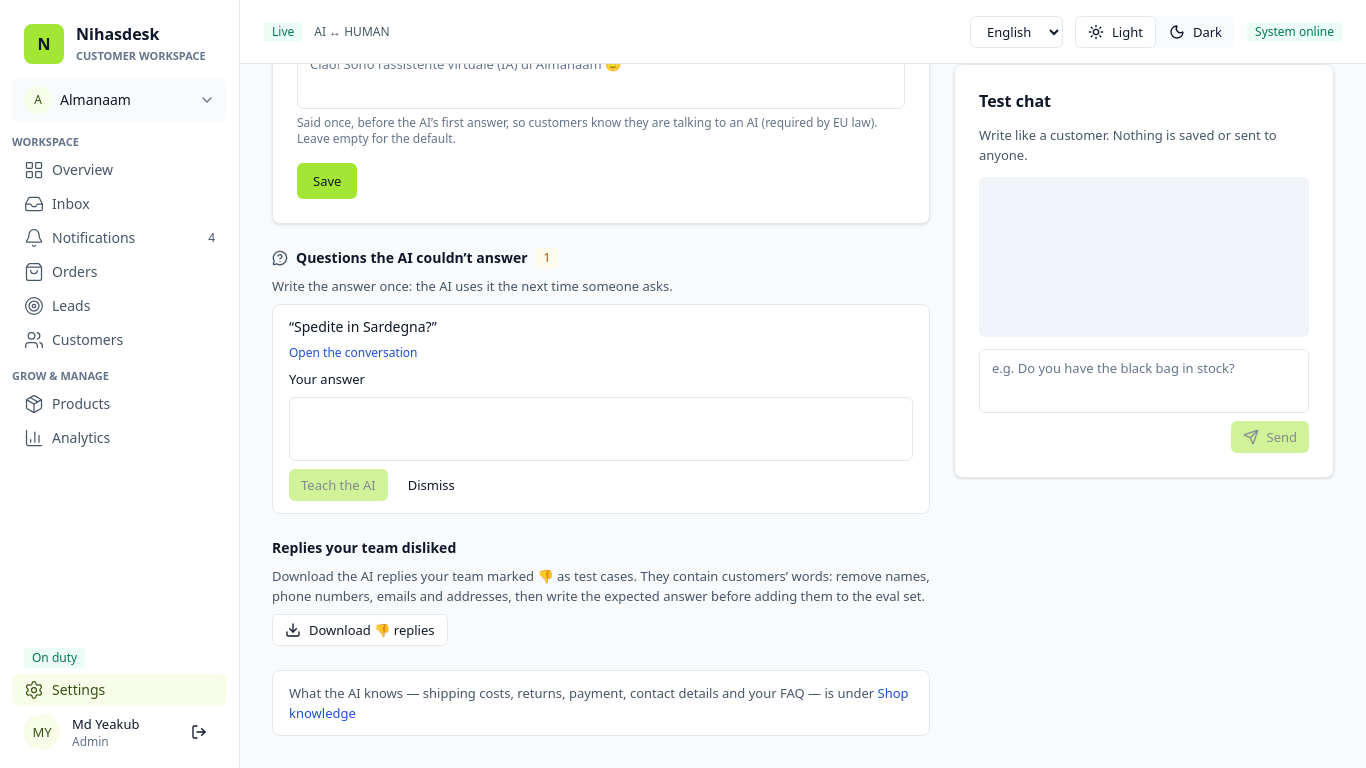
Test: Settings → AI › teaches the AI from an unanswered question
The width and height of the screenshot is (1366, 768).
(page scrolled)
Expected: the text "“Spedite in Sardegna?”" is shown, [289,317,437,336]
Type "Sì, isole comprese." into the text box labelled "Your answer" at [601, 429], box [289,397,913,461]
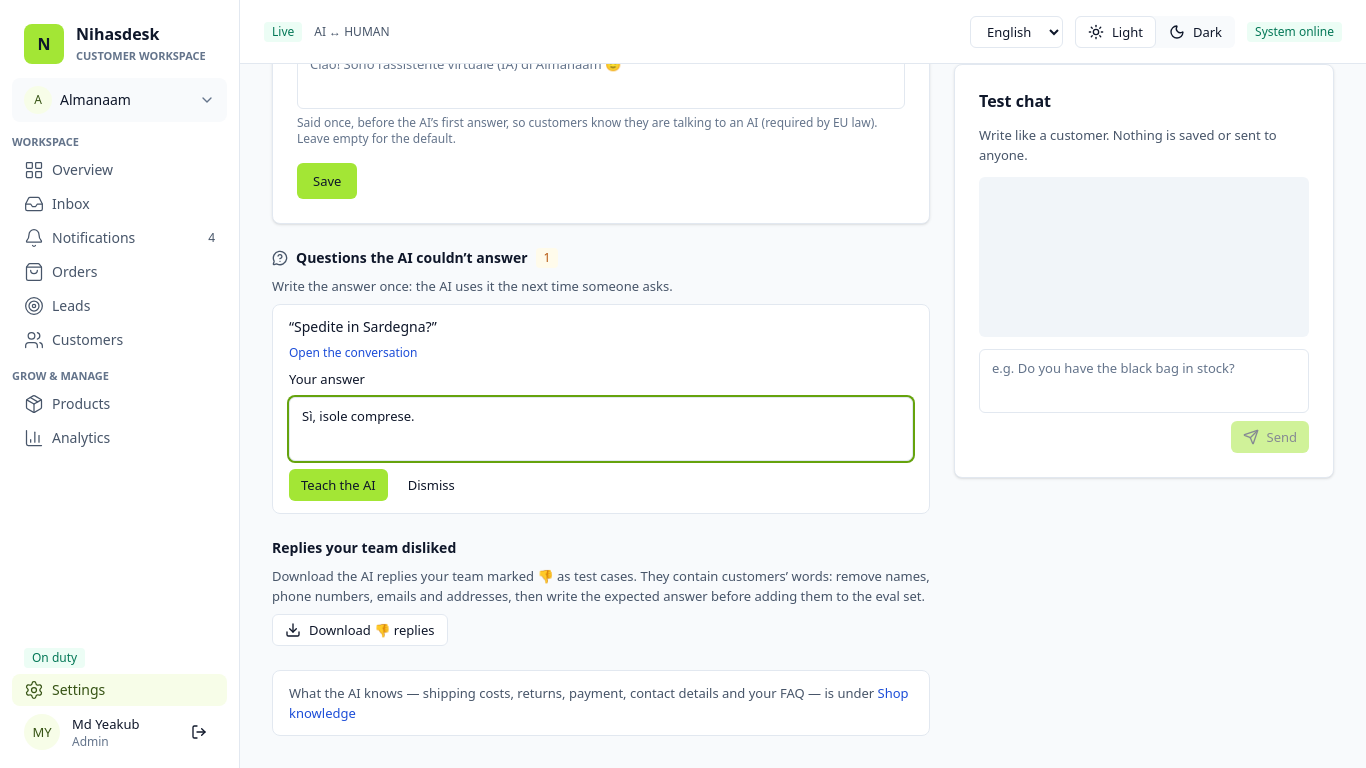
Click the button "Teach the AI" at [338, 485], box [289,469,388,501]
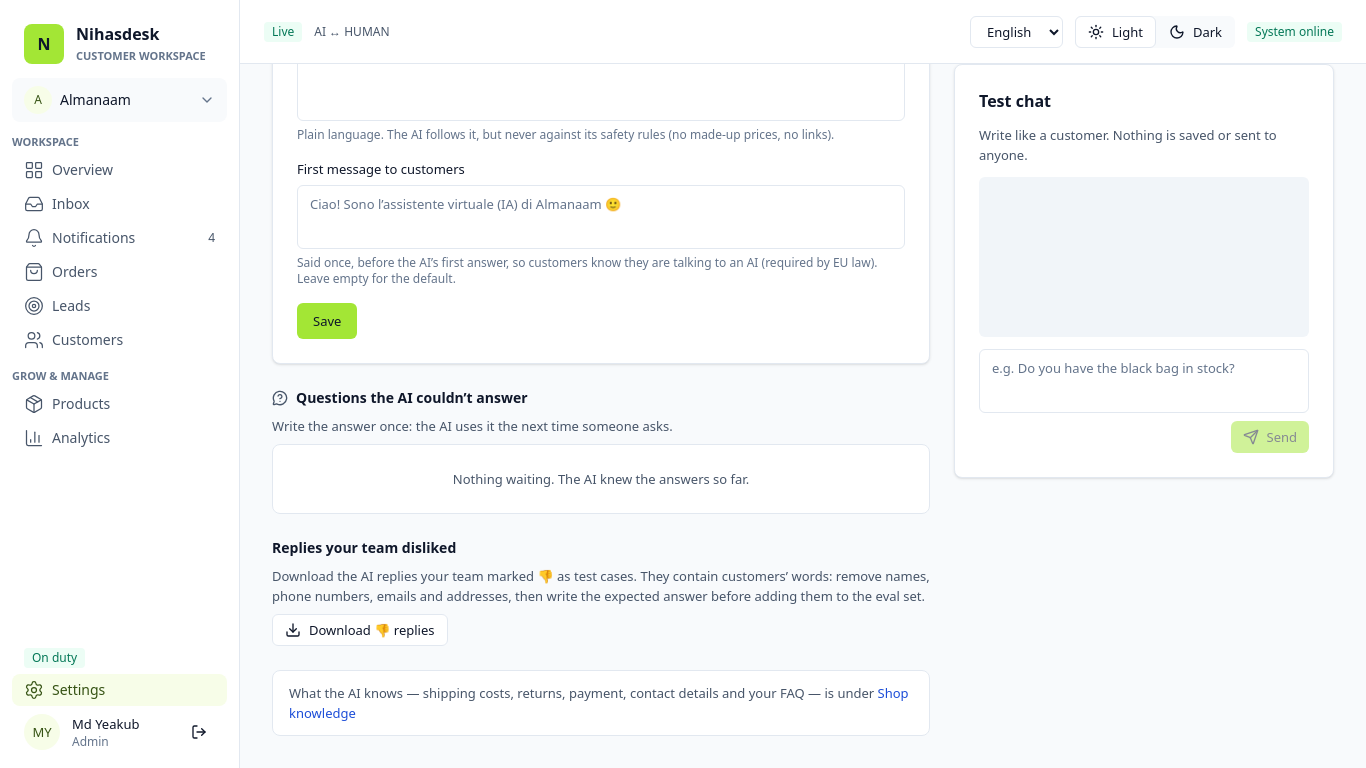
Expected: the text "Nothing waiting. The AI knew the answers so far." is shown, [272,444,930,514]
